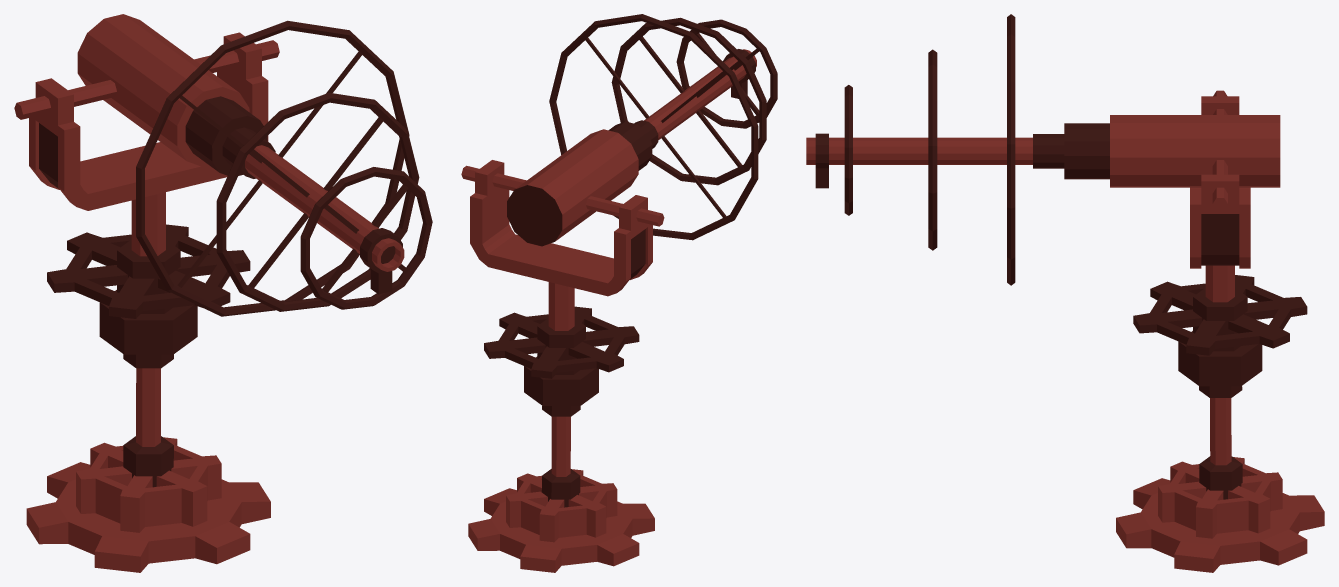
Rendered from Laser_1.glb.
3 renders of one model, left to right at view 1: azimuth 30°, elevation 25°; view 2: azimuth 150°, elevation 25°; view 3: azimuth 270°, elevation 25°, orthographic. The views are drawn at different scales.
Visible parts, largest first — view 1: Laser_1_Gun, Laser_1_Mid, Laser_1_Base; view 2: Laser_1_Mid, Laser_1_Gun, Laser_1_Base; view 3: Laser_1_Gun, Laser_1_Mid, Laser_1_Base.
Boxes of the visible parts, x1,y1,x2,y2 form: Laser_1_Gun: (77, 14, 432, 316); Laser_1_Mid: (14, 32, 279, 487); Laser_1_Base: (26, 437, 270, 572); Laser_1_Mid: (461, 160, 664, 507); Laser_1_Gun: (507, 14, 777, 246); Laser_1_Base: (468, 469, 654, 572); Laser_1_Gun: (806, 14, 1280, 285); Laser_1_Mid: (1133, 90, 1307, 499); Laser_1_Base: (1116, 457, 1324, 572).
Bounding box in the file's own units: 0.6684 × 1.38 × 1.28.
